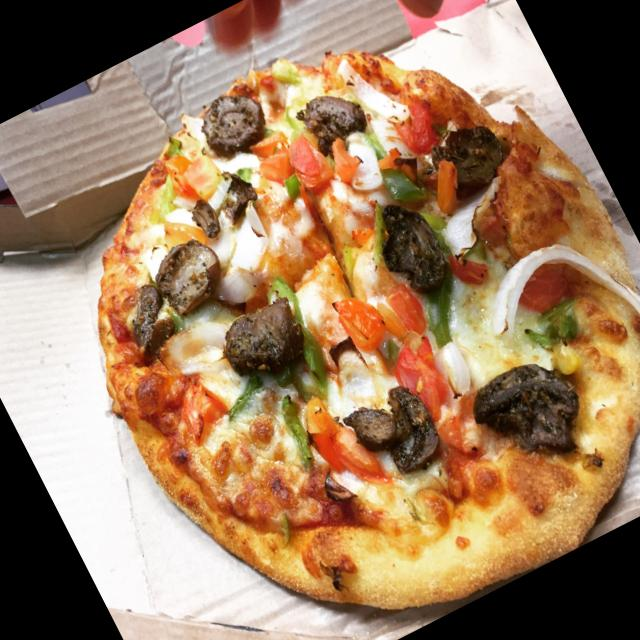mushrooms: (455, 344, 599, 486), (339, 371, 454, 491), (206, 288, 318, 392), (360, 192, 461, 306), (144, 224, 242, 325), (418, 106, 515, 205), (192, 76, 283, 167), (292, 72, 378, 162), (106, 274, 184, 360), (206, 158, 271, 226), (185, 188, 234, 245)
peppers: (404, 244, 511, 345), (260, 266, 346, 386), (292, 381, 380, 489), (390, 332, 460, 421), (329, 280, 401, 359), (266, 390, 328, 476), (280, 128, 346, 198), (383, 94, 448, 164), (373, 274, 432, 337), (373, 152, 432, 212), (520, 302, 580, 352), (348, 196, 397, 254), (210, 370, 264, 422), (418, 158, 464, 212), (276, 167, 314, 205)
pizza: (96, 50, 640, 614)
